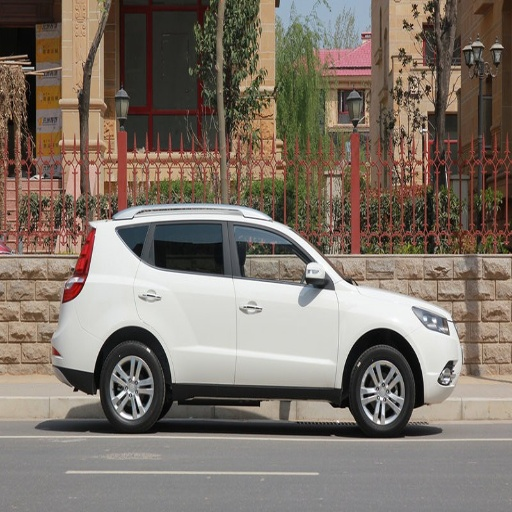back_right_door: (136, 215, 233, 384)
front_right_door: (230, 216, 339, 384)
